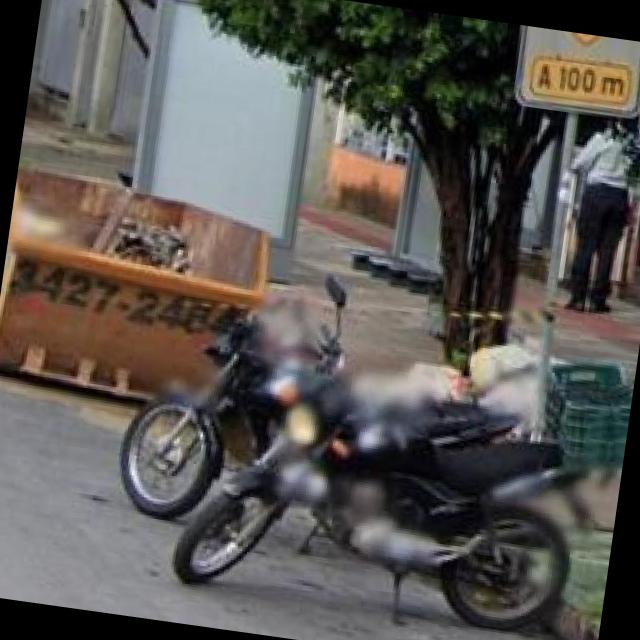bike: (171, 275, 570, 630), (118, 309, 280, 519)
